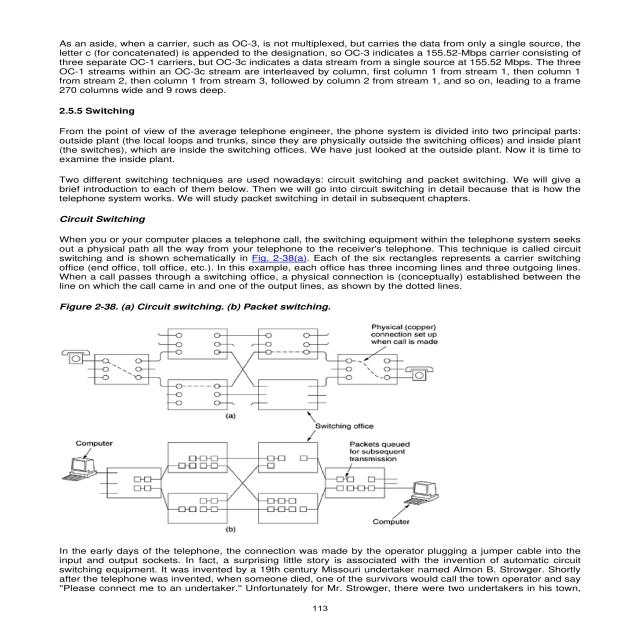diagram: (25, 293, 490, 538)
